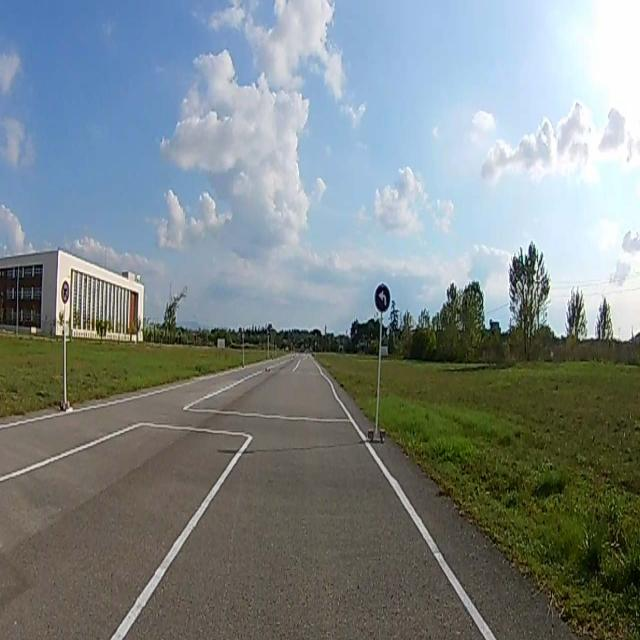sagadonulmez: (61, 280, 69, 302)
sol: (375, 284, 391, 312)
